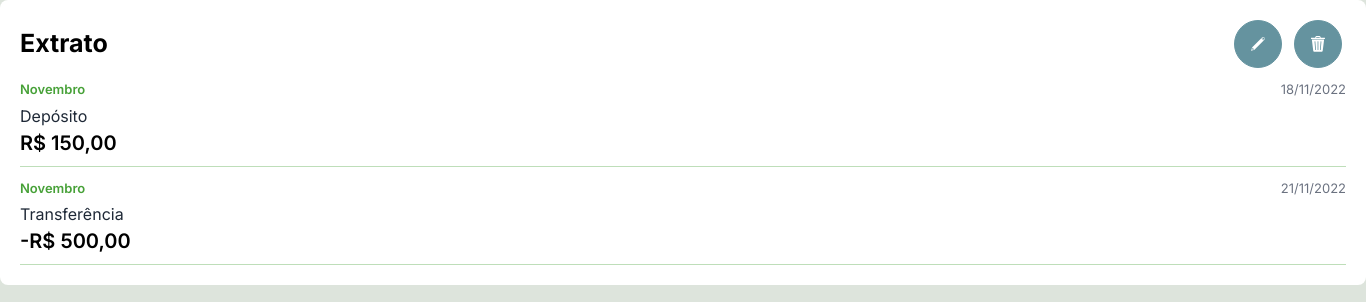
it: StatementPanel › renderiza titulo e lancamentos do extrato e habilita acoes ao selecionar item
Expected: the heading "Extrato" is shown, [20,25,108,63]
Expected: the button named "Editar extrato" is disabled, [1234,20,1282,68]
What coordinates should you click on to do the following:
click the list item "18/11/2022"
I would click on:
 (683, 123)
Its box is [20,80,1346,166].
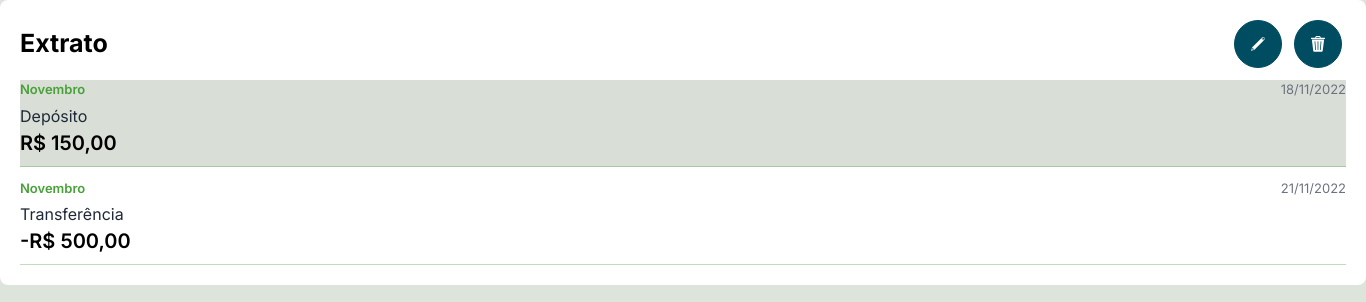
Expected: the button named "Editar extrato" is enabled, [1234,20,1282,68]
Expected: the button named "Excluir extrato" is enabled, [1294,20,1342,68]
